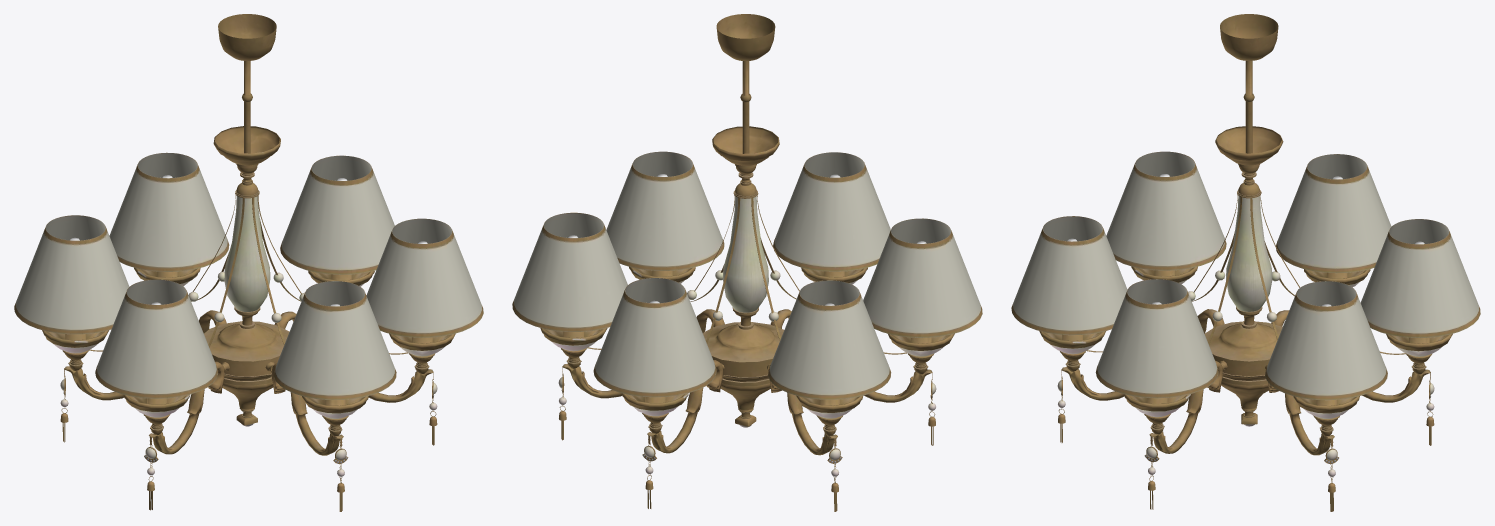
File: polyhaven-chandelier-01.glb
3 renders of one model, left to right at view 1: azimuth 30°, elevation 25°; view 2: azimuth 150°, elevation 25°; view 3: azimuth 270°, elevation 25°, orthographic.
Visible parts, largest first — view 1: Chandelier_01; view 2: Chandelier_01; view 3: Chandelier_01.
Boxes of the visible parts, x1,y1,x2,y2 form: Chandelier_01: [14, 14, 483, 511]; Chandelier_01: [512, 14, 982, 511]; Chandelier_01: [1011, 14, 1480, 511].
Bounding box in the file's own units: 0.7465 × 0.7982 × 0.8155.
2 materials, 1 textured.
